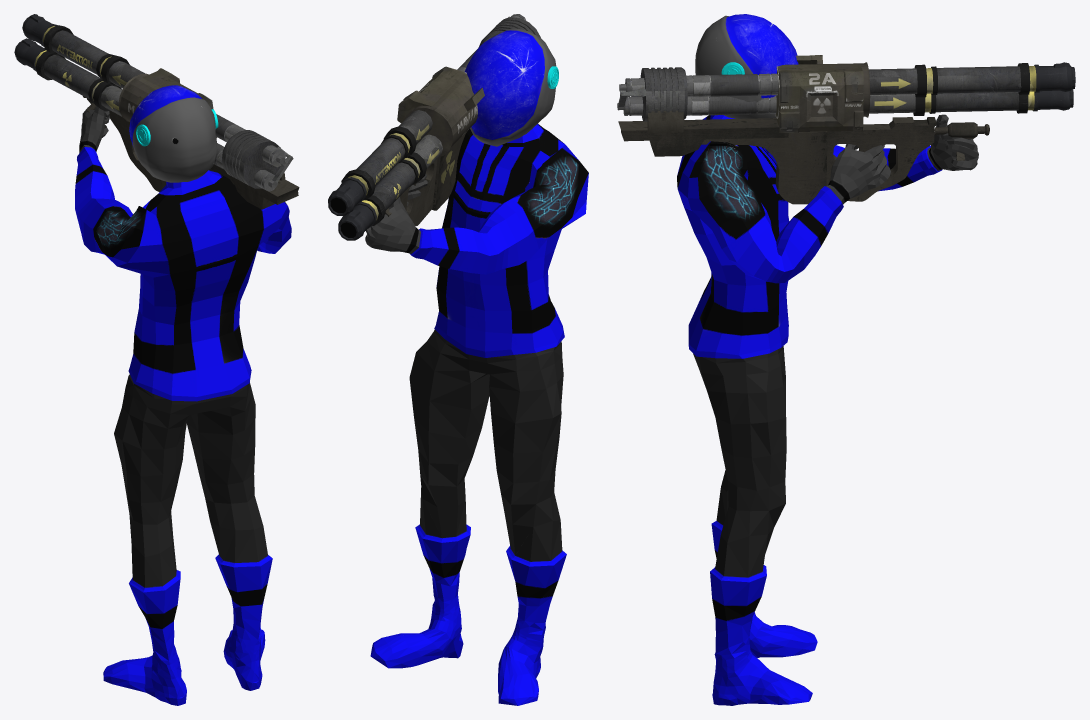
3 renders of one model, left to right at view 1: azimuth 30°, elevation 25°; view 2: azimuth 150°, elevation 25°; view 3: azimuth 270°, elevation 25°, orthographic. The views are drawn at different scales.
Visible parts, largest first — view 1: Brazos2, Piernas1, group1_polySurface5, Cabeza1; view 2: Piernas1, Brazos2, group1_polySurface5, Cabeza1; view 3: group1_polySurface5, Brazos2, Piernas1, Cabeza1.
Boxes of the visible parts, bbox=[...] form: Brazos2: bbox=[75, 106, 291, 401]; Piernas1: bbox=[103, 374, 272, 705]; group1_polySurface5: bbox=[14, 14, 299, 209]; Cabeza1: bbox=[129, 85, 218, 182]; Piernas1: bbox=[370, 329, 566, 705]; Brazos2: bbox=[365, 124, 588, 357]; group1_polySurface5: bbox=[328, 14, 540, 240]; Cabeza1: bbox=[464, 28, 558, 146]; group1_polySurface5: bbox=[617, 55, 1075, 204]; Brazos2: bbox=[677, 114, 978, 358]; Piernas1: bbox=[693, 346, 817, 705]; Cabeza1: bbox=[695, 14, 798, 118].
Size of the model in its own units: 55.34 by 177 by 113.
